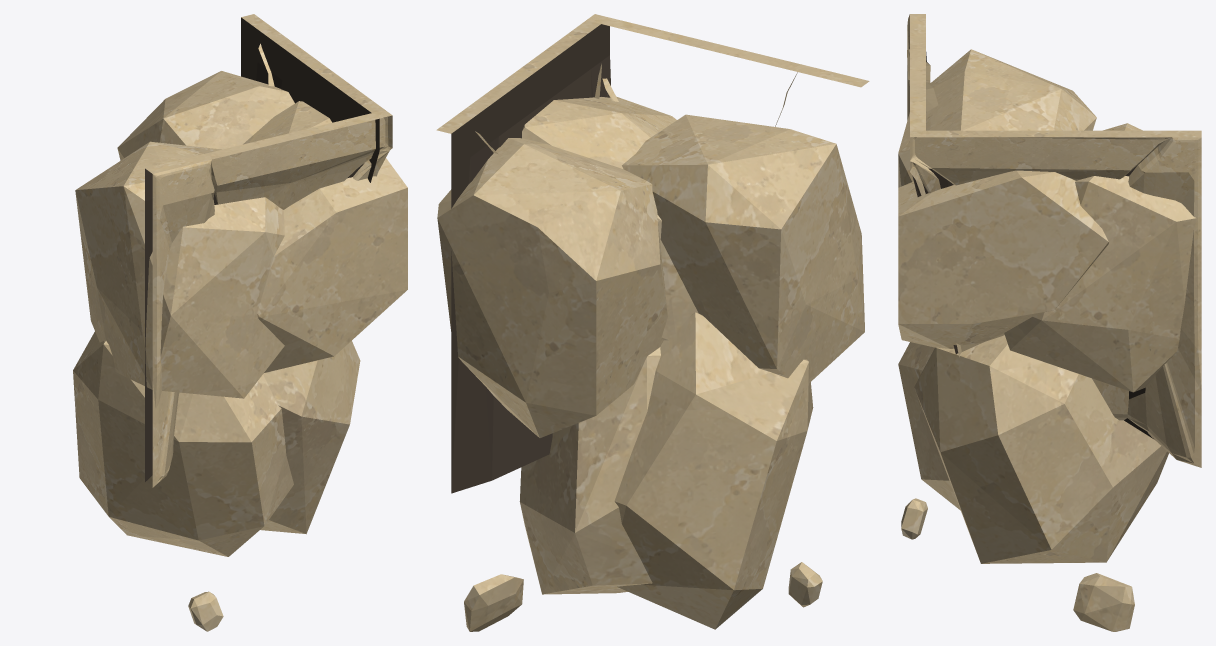
File: ground_bottom_corner_08.glb
3 renders of one model, left to right at view 1: azimuth 30°, elevation 25°; view 2: azimuth 150°, elevation 25°; view 3: azimuth 270°, elevation 25°, orthographic. The views are drawn at different scales.
Visible parts, largest first — view 1: GroundBottomCorner08_Body; view 2: GroundBottomCorner08_Body; view 3: GroundBottomCorner08_Body.
Boxes of the visible parts, x1,y1,x2,y2 form: GroundBottomCorner08_Body: [73, 14, 407, 631]; GroundBottomCorner08_Body: [436, 14, 869, 631]; GroundBottomCorner08_Body: [898, 14, 1201, 631].
Bounding box in the file's own units: 1.04 × 1.88 × 1.04.
Materials: 8 (7 with a texture image).
